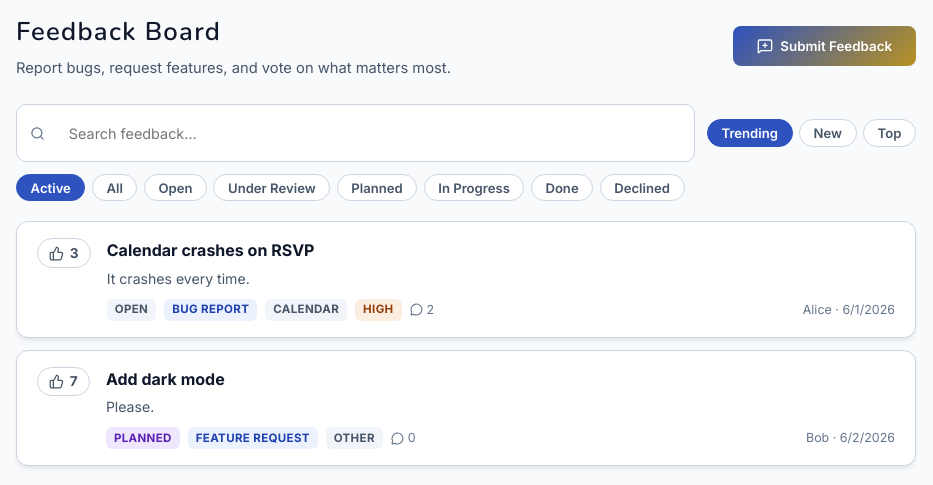
Test case: Feedback board › optimistically updates the vote count on upvote
Expected: the text "Calendar crashes on RSVP" is shown, [107,240,314,260]
Click the button named "Upvote".
click(64, 253)  # box [37,238,91,268]
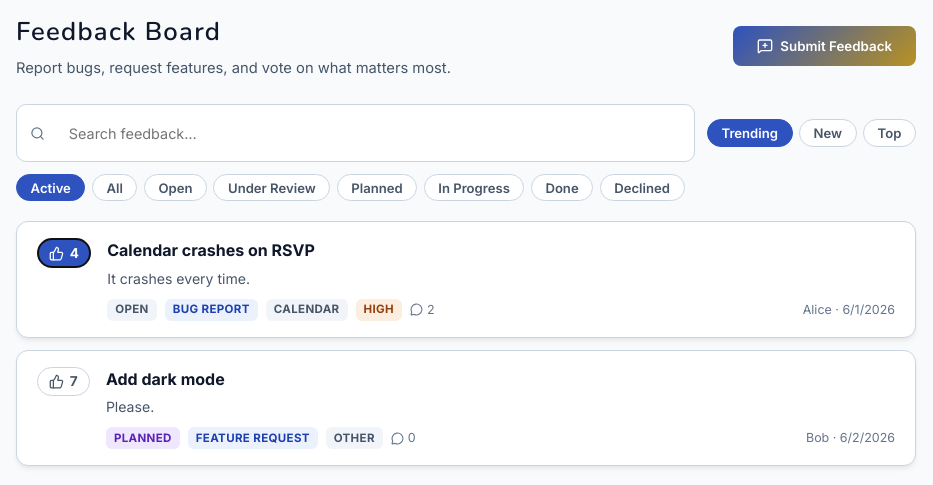
Expected: the button named "Upvote" reads "4", [37,238,91,268]
